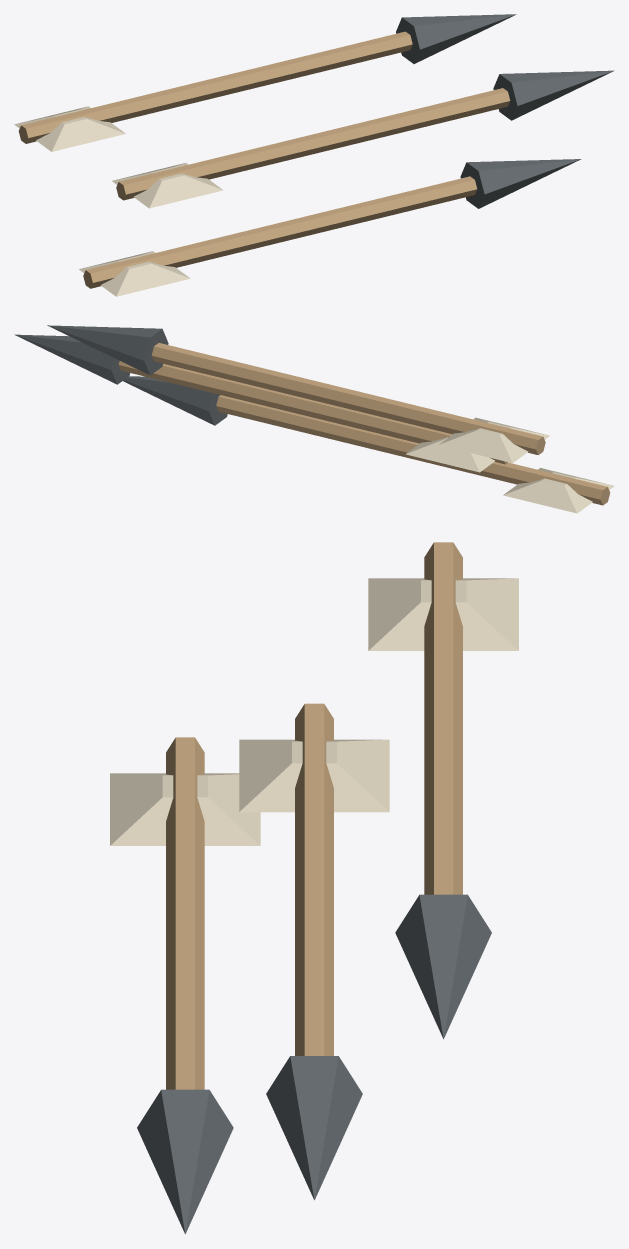
Rendered from item_054_arrow_m.glb.
3 renders of one model, top to bottom at view 1: azimuth 30°, elevation 25°; view 2: azimuth 150°, elevation 25°; view 3: azimuth 270°, elevation 25°, orthographic. The views are drawn at different scales.
Visible parts, largest first — view 1: item_054_arrow_m; view 2: item_054_arrow_m; view 3: item_054_arrow_m.
Part boxes in pixels (<box>): item_054_arrow_m: <box>14,14,614,296</box>; item_054_arrow_m: <box>14,325,614,513</box>; item_054_arrow_m: <box>110,542,518,1234</box>.
Size of the model in its own units: 0.6 by 0.139 by 0.19.
